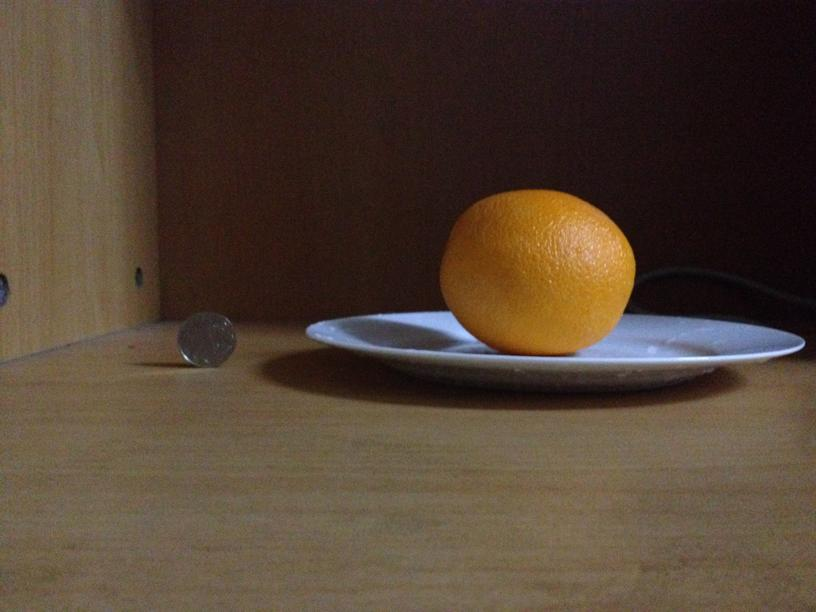coin: (175, 310, 238, 366)
orange: (438, 187, 634, 354)
